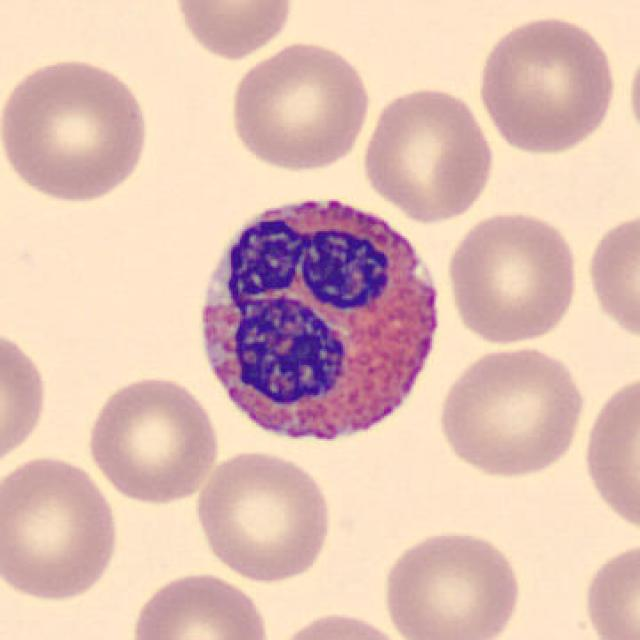Eosinophil: (183, 176, 453, 460)
RBC: (0, 53, 153, 206), (432, 342, 590, 481), (473, 10, 620, 157), (224, 37, 373, 175), (190, 446, 336, 584), (359, 81, 498, 224), (445, 206, 583, 348), (82, 372, 222, 508), (0, 451, 123, 605), (377, 525, 526, 640), (126, 567, 273, 640), (580, 367, 638, 541), (0, 321, 52, 478), (169, 0, 297, 62), (583, 205, 638, 349), (578, 536, 638, 640), (268, 608, 412, 640), (626, 34, 640, 155)
